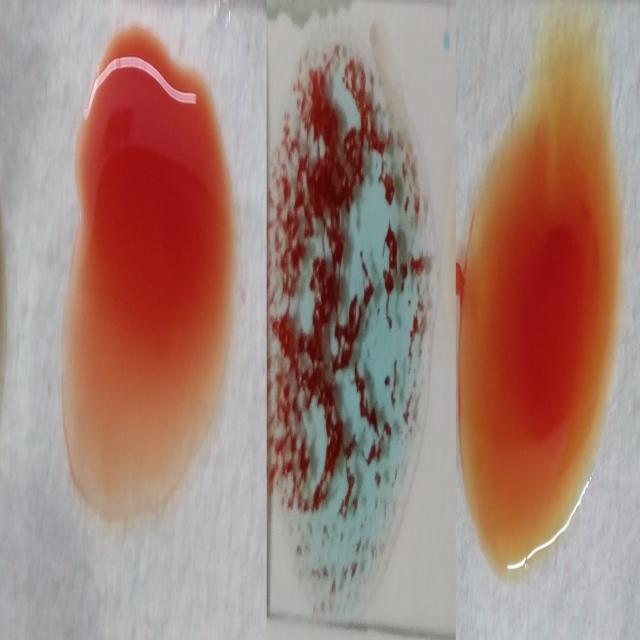A: (276, 45, 431, 599)
